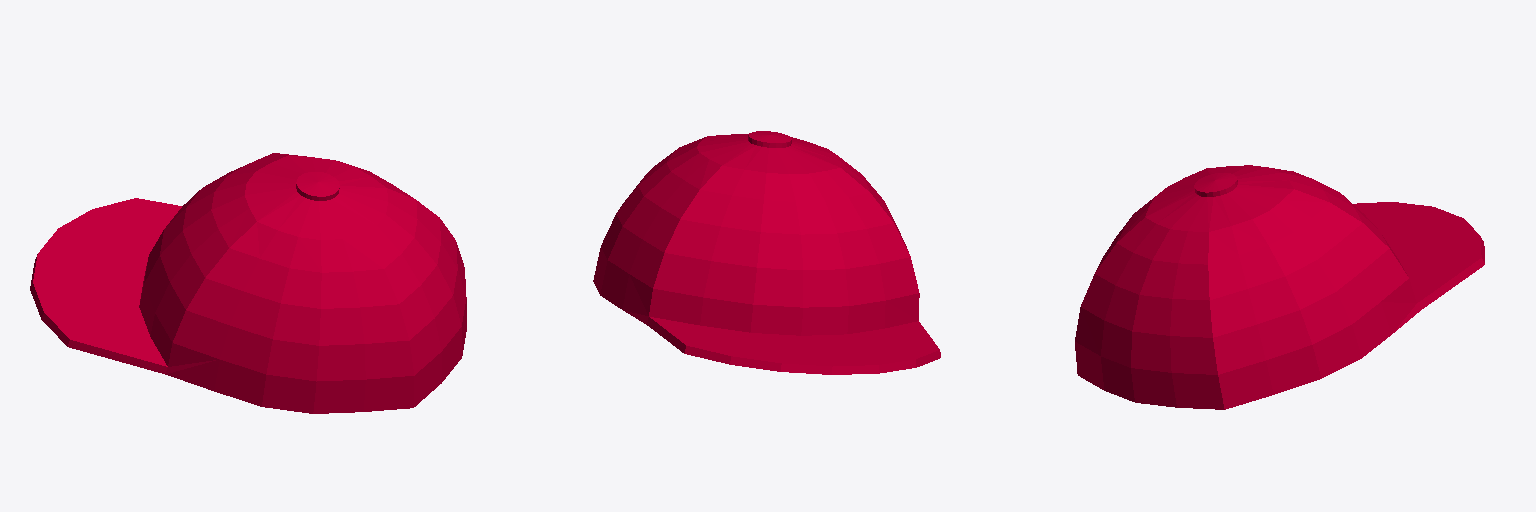
File: baseballcap_basic.sgm.obj
3 renders of one model, left to right at view 1: azimuth 30°, elevation 25°; view 2: azimuth 150°, elevation 25°; view 3: azimuth 270°, elevation 25°, orthographic.
Parts seen in each view (by area): view 1: 0; view 2: 0; view 3: 0.
Part boxes in pixels (x1,y1,x2,y2): 0: (30,153,466,413); 0: (593,131,940,374); 0: (1075,165,1484,409).
Bounding box in the file's own units: 0.5039 × 0.2436 × 0.4932.